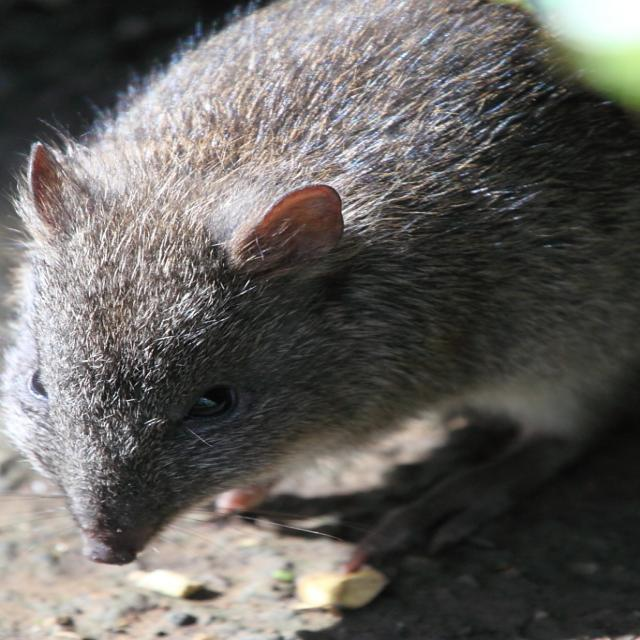rat: (7, 0, 640, 565)
